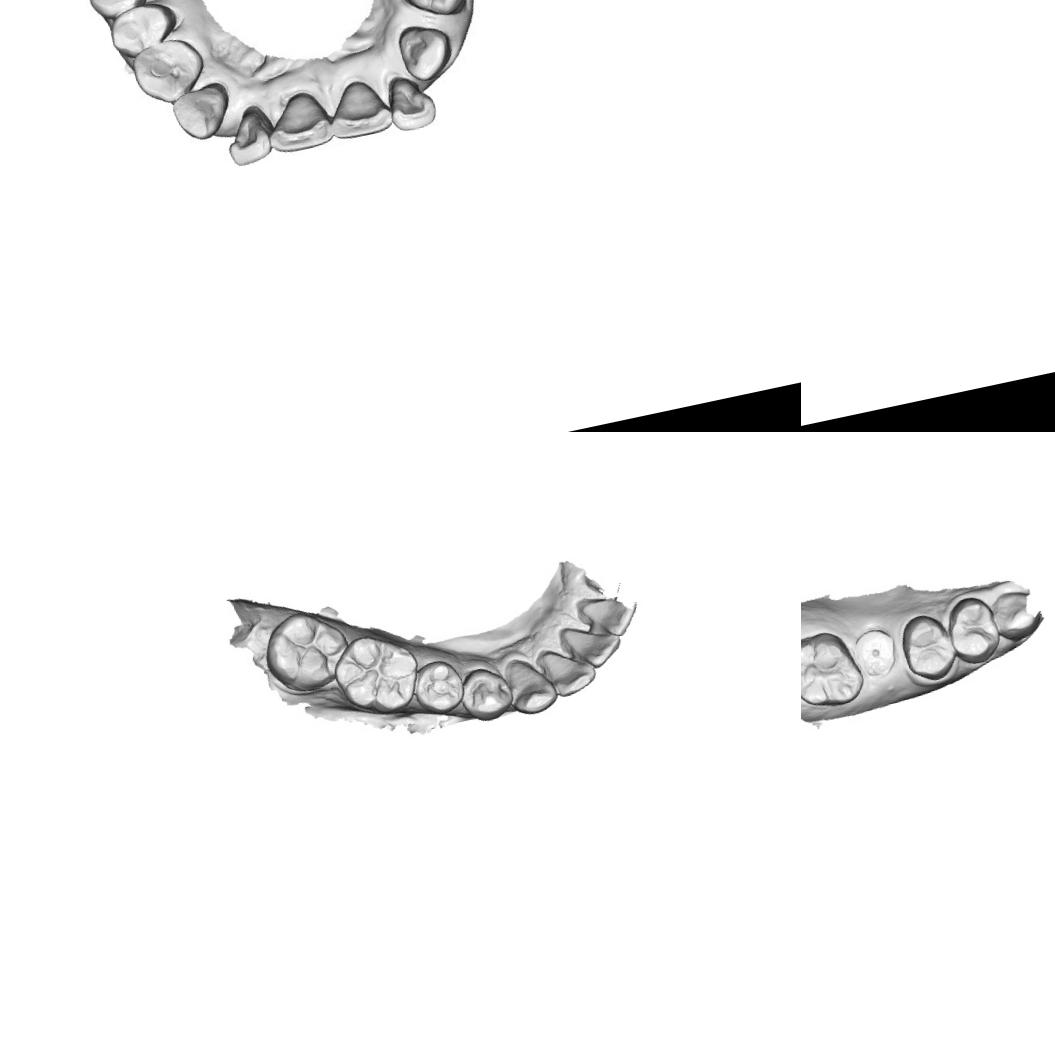canine: (390, 12, 459, 88), (168, 77, 236, 146), (500, 650, 562, 720), (988, 582, 1047, 645)
implant: (851, 624, 901, 682)
incisor: (260, 88, 338, 158), (321, 79, 396, 148), (532, 638, 601, 704), (556, 614, 626, 676), (218, 104, 280, 170), (381, 69, 440, 136), (575, 592, 642, 646)
molar: (256, 602, 358, 700), (327, 624, 428, 722), (801, 624, 868, 715), (72, 0, 158, 22)
premolar: (130, 34, 208, 109), (895, 609, 961, 686), (942, 592, 1006, 668), (101, 0, 183, 59), (454, 660, 518, 728), (407, 654, 471, 721), (392, 0, 474, 26)
